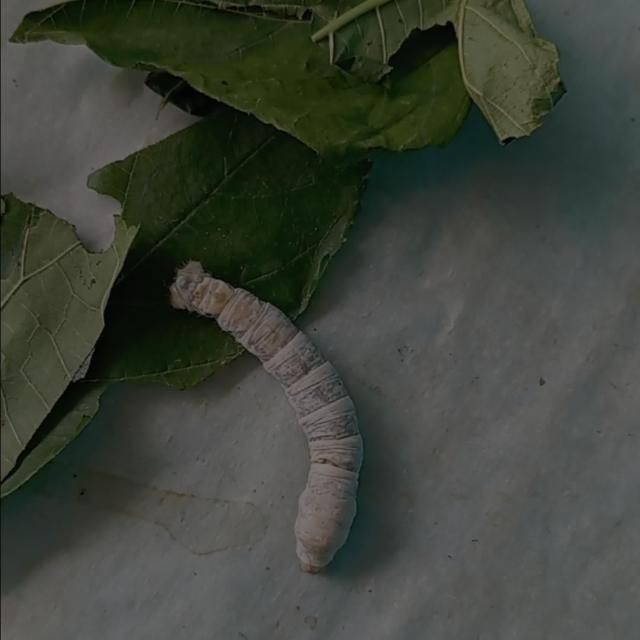Grasserie: (160, 250, 381, 580)
